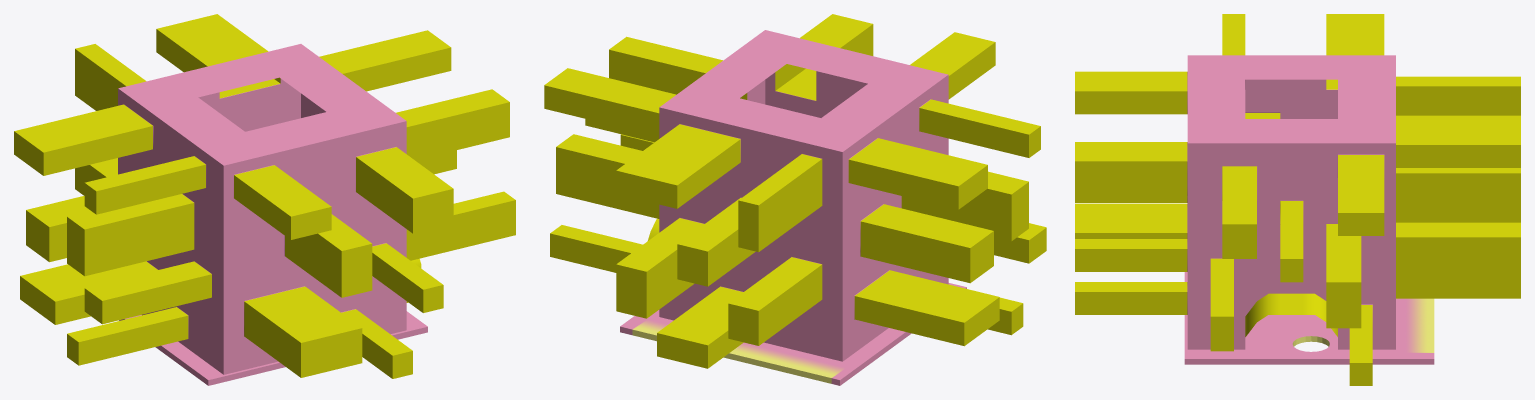
The model's file is cubby_room.fbx.
The picture shows the model from 3 angles, left to right: view 1: azimuth 30°, elevation 25°; view 2: azimuth 150°, elevation 25°; view 3: azimuth 270°, elevation 25°; orthographic projection.
Visible parts, largest first — view 1: Cubby_Room_V1, OceanRoom; view 2: Cubby_Room_V1, OceanRoom; view 3: Cubby_Room_V1, OceanRoom.
Boxes of the visible parts, <box> form: Cubby_Room_V1: <box>14,14,515,378</box>; OceanRoom: <box>119,311,427,385</box>; Cubby_Room_V1: <box>544,14,1046,368</box>; OceanRoom: <box>620,283,966,385</box>; Cubby_Room_V1: <box>1075,14,1520,385</box>; OceanRoom: <box>1184,272,1434,364</box>.
Bounding box in the file's own units: 1130 × 561 × 1070.
